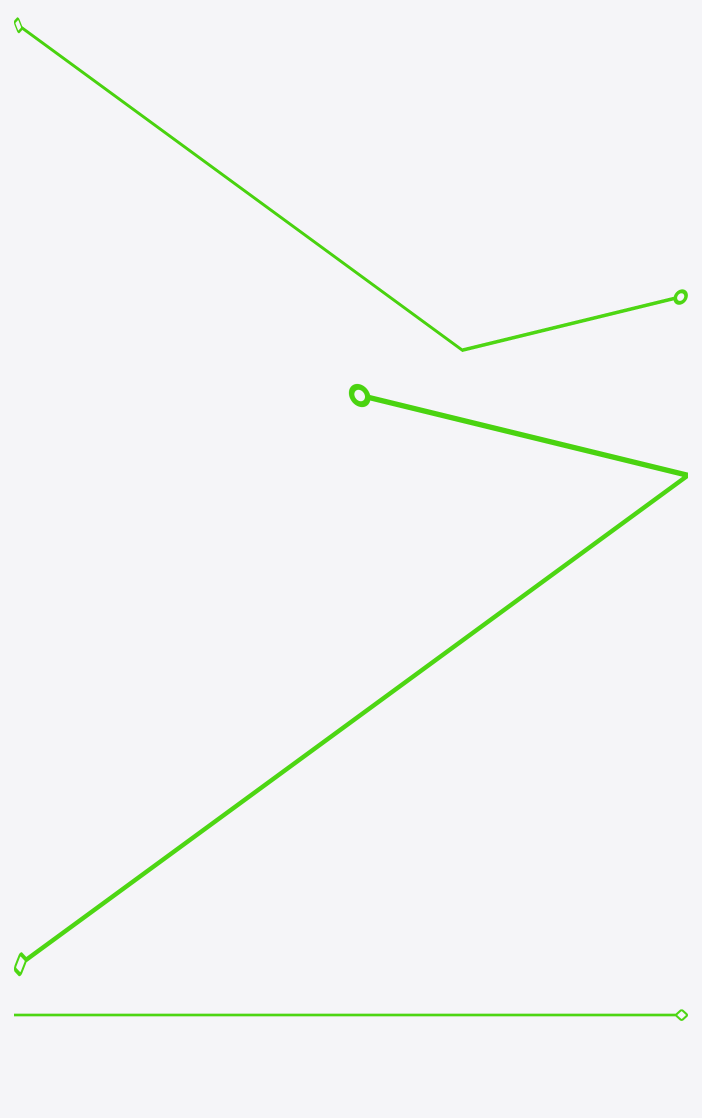
The model's file is 9_2_cl_active.glb.
The picture shows the model from 3 angles, top to bottom: view 1: azimuth 30°, elevation 25°; view 2: azimuth 150°, elevation 25°; view 3: azimuth 270°, elevation 25°; orthographic projection. The views are drawn at different scales.
Parts seen in each view (by area): view 1: 9_2_cl_active; view 2: 9_2_cl_active; view 3: 9_2_cl_active.
Boxes of the visible parts, left/top/right/bottom form: 9_2_cl_active: left=14, top=17, right=687, bottom=351; 9_2_cl_active: left=14, top=384, right=687, bottom=976; 9_2_cl_active: left=14, top=1009, right=687, bottom=1020.
Size of the model in its own units: 5.05 by 0.3315 by 17.39.
1 material, 1 textured.
